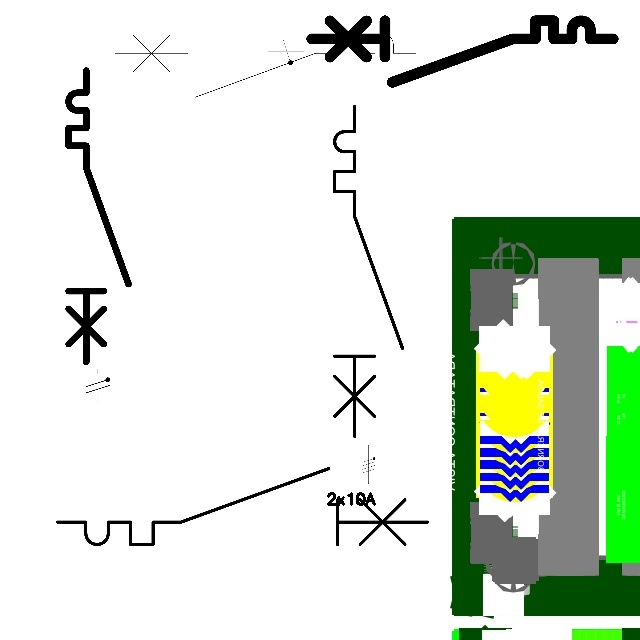interruptor_termomagnetico: (48, 459, 436, 554), (326, 98, 411, 445), (107, 27, 424, 104), (303, 13, 620, 90), (61, 63, 136, 369)
